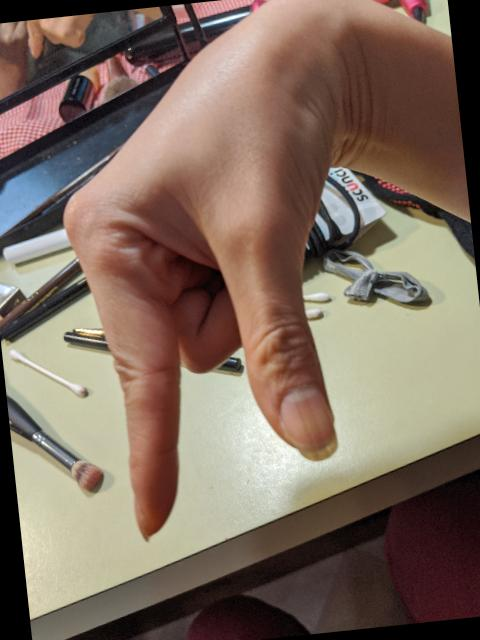Q: (35, 0, 397, 555)
